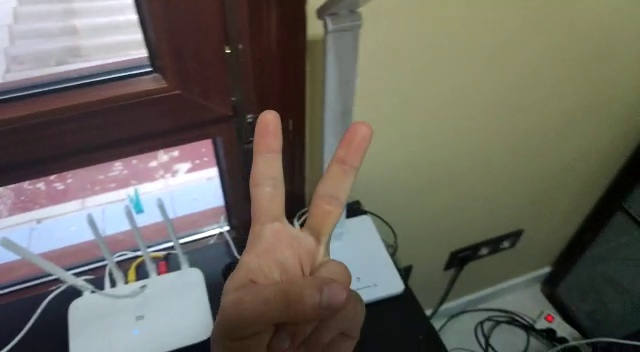Peace: (222, 103, 375, 352)
